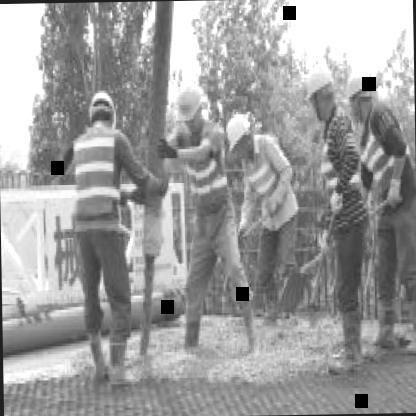helmet: (304, 58, 338, 120), (343, 67, 375, 122), (173, 78, 208, 128), (224, 114, 256, 168), (88, 88, 118, 134)
